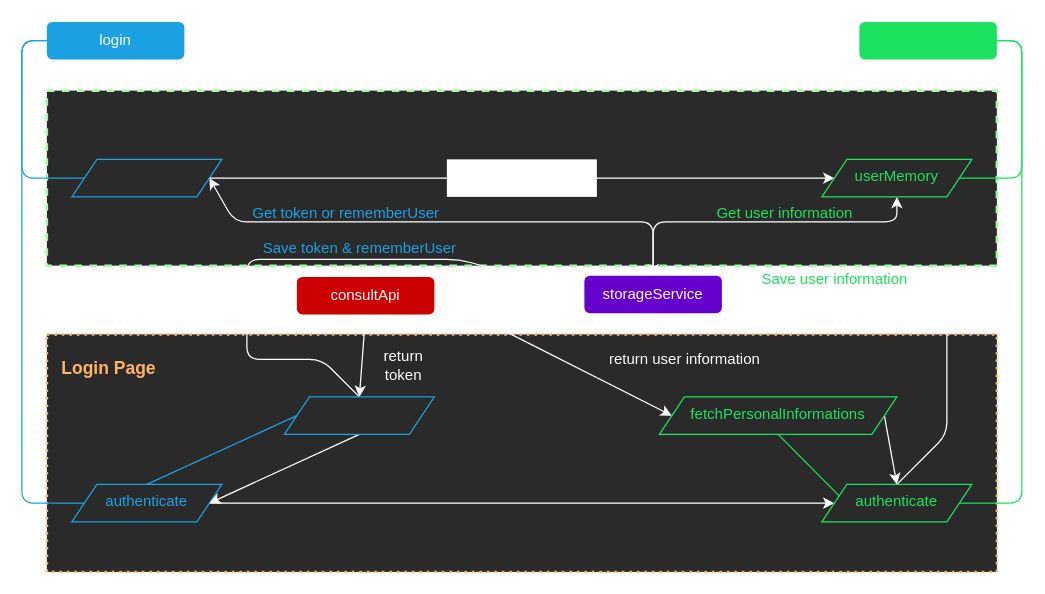
Some shapes in this 1045 by 594 pixel diagram are drawn without their labels. Here are the shapes that lost their labels. From the top down, the box of each, then its label:
(859, 21, 996, 59): user
(71, 158, 222, 197): startLogin
(446, 159, 596, 196): if token or rememberUser exist
(45, 89, 998, 266): Header
(283, 396, 434, 434): fetchApiToken
